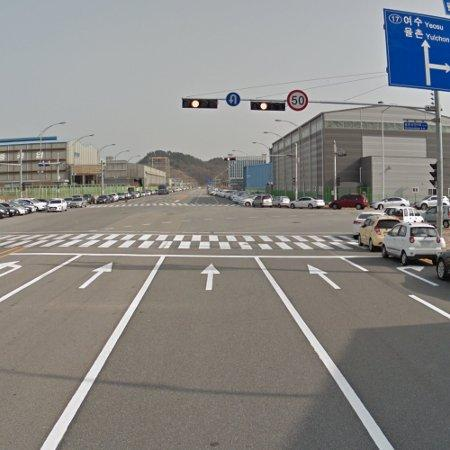traffic lights: (251, 102, 286, 111)
